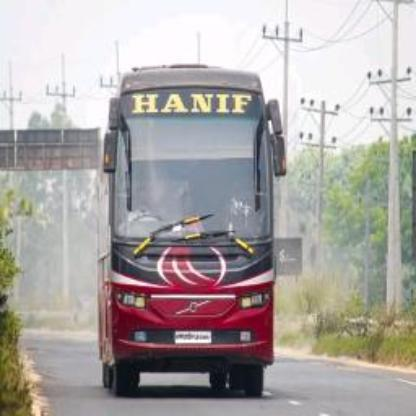bus: (90, 56, 288, 408)
